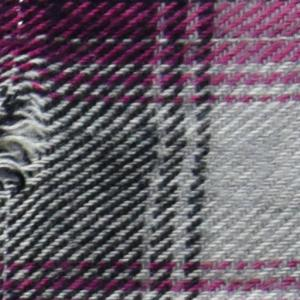Damage: (1, 36, 57, 222)
